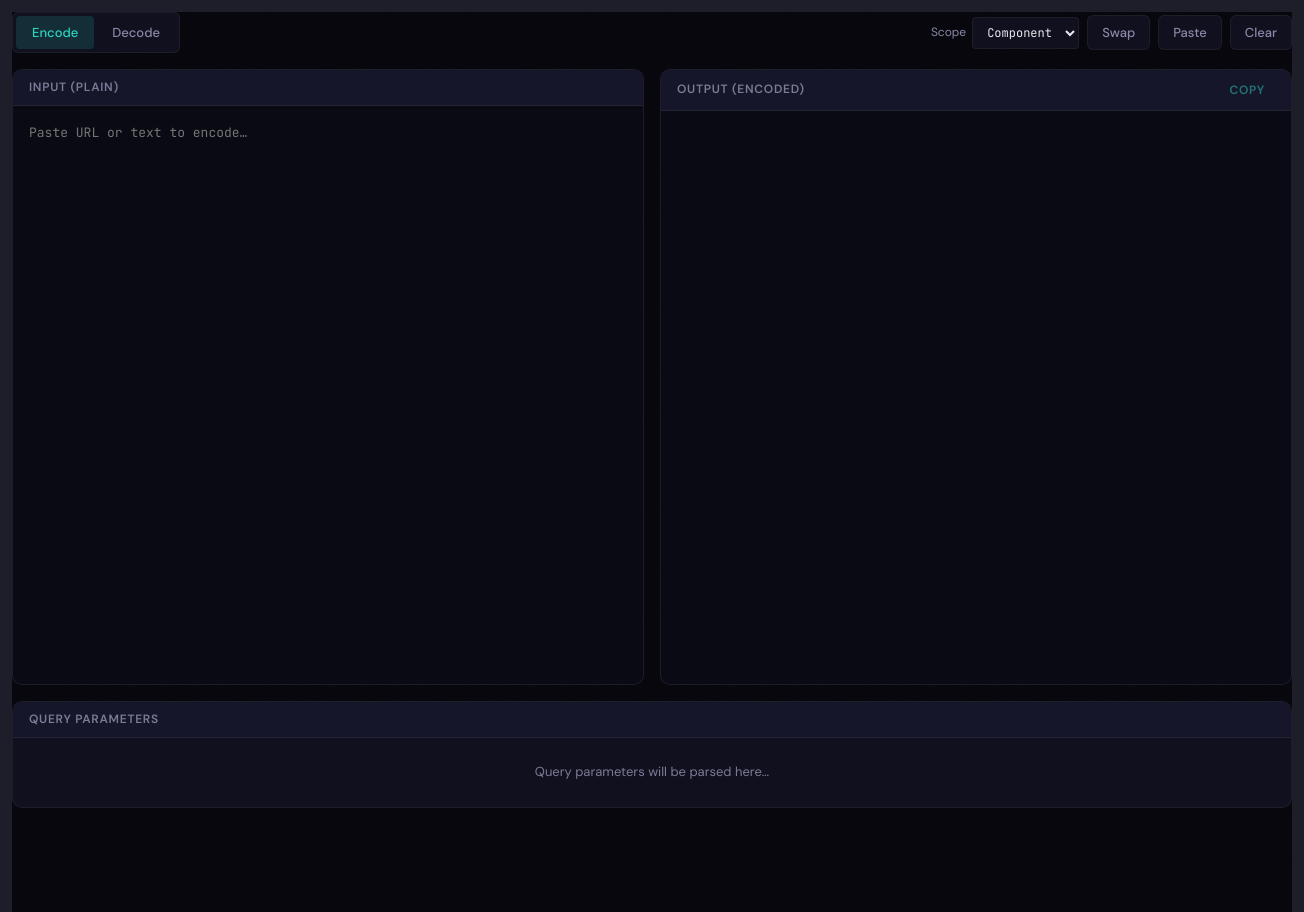
Test case: UrlCodec › decodes encoded text
The width and height of the screenshot is (1304, 912).
Click the tab "Decode": (136, 32) left=96, top=16, right=176, bottom=49
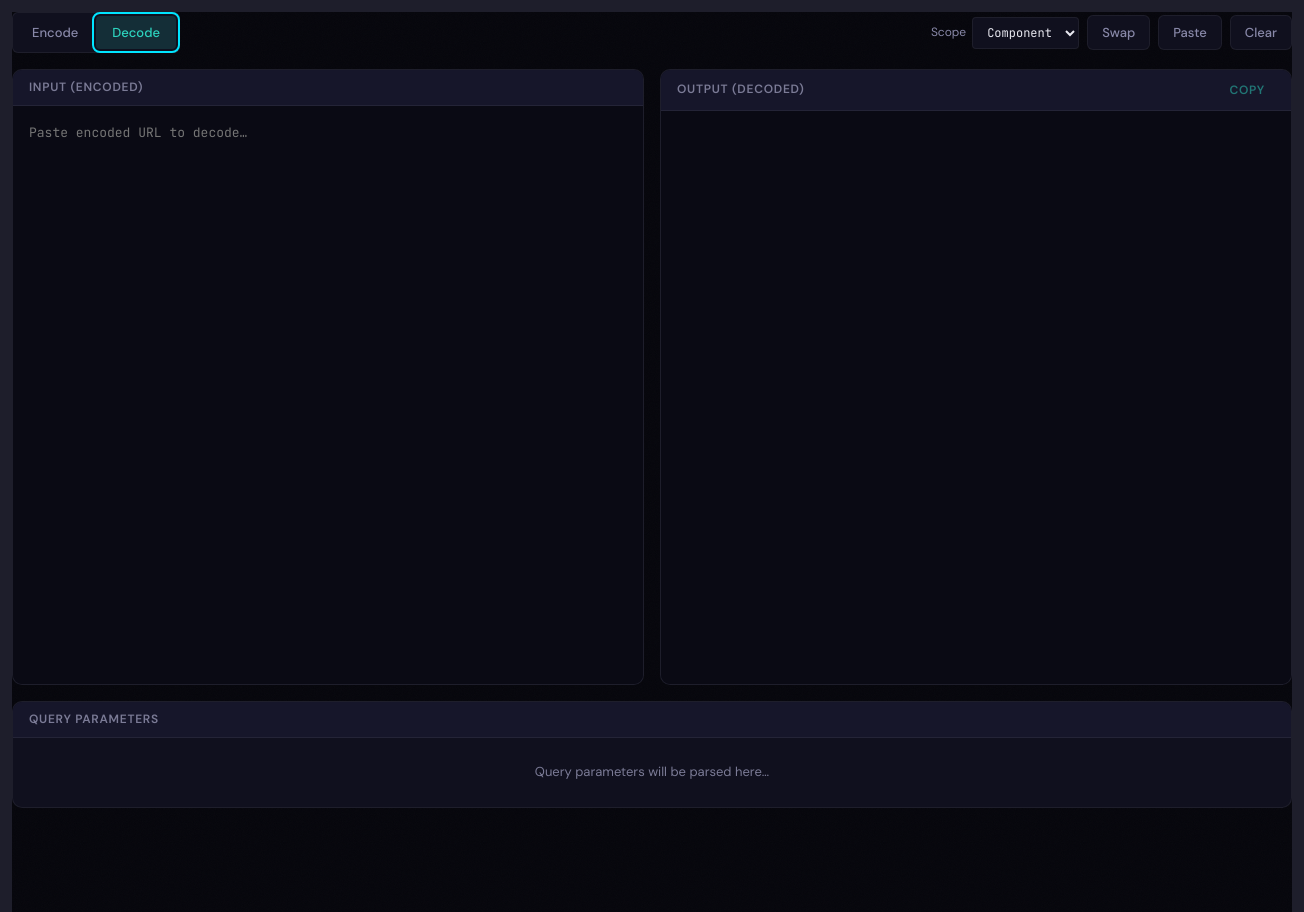
In the text box named "encoded url input": (328, 395) left=13, top=106, right=643, bottom=684, type "hello%20world"
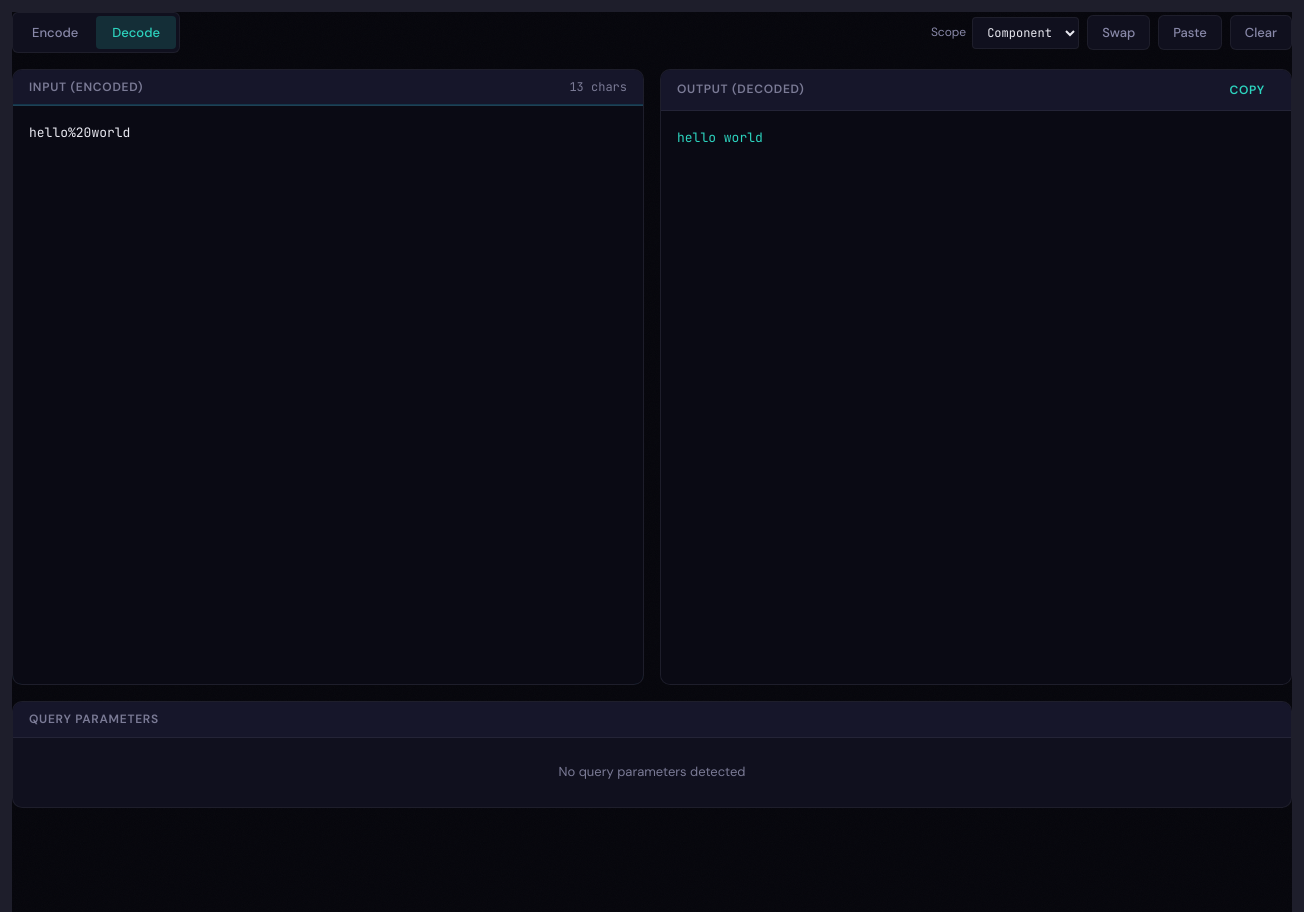
Now the text box named "decoded output" holds "hello world", box left=661, top=111, right=1291, bottom=684
